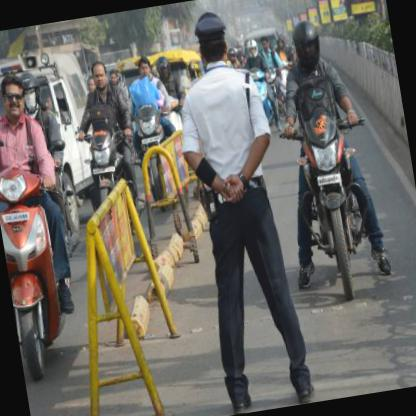motorcycle: (258, 16, 392, 306), (0, 64, 99, 385), (70, 57, 143, 212), (125, 54, 183, 204)
